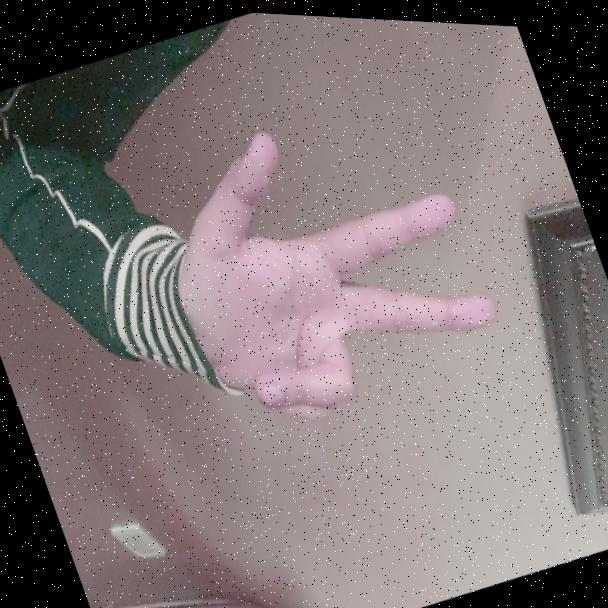three: (111, 56, 524, 483)
